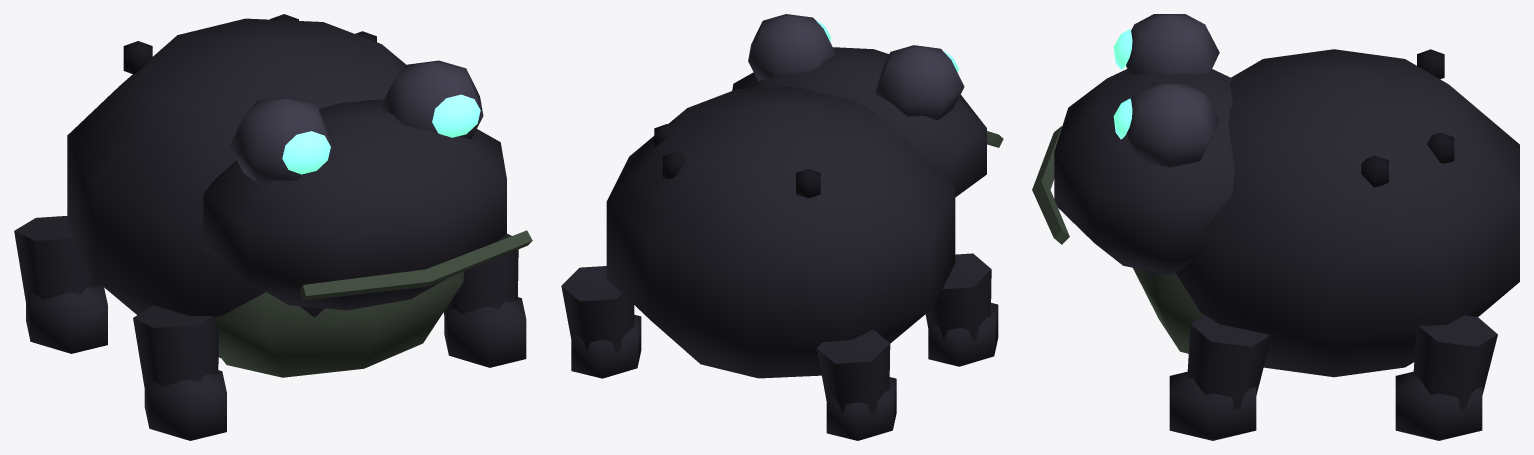
File: beast-toad.glb
3 views of the same model, side by side, from view 1: azimuth 30°, elevation 25°; view 2: azimuth 150°, elevation 25°; view 3: azimuth 270°, elevation 25° (orthographic). The views are drawn at different scales.
Parts seen in each view (by area): view 1: body, head, leg_fr, leg_br, leg_fl, glow_eyes; view 2: body, head, leg_br, leg_bl, leg_fr; view 3: body, head, leg_bl, leg_fl, glow_eyes.
Part boxes in pixels (bbox=[...]): body: bbox=[67, 14, 464, 377]; head: bbox=[203, 60, 532, 310]; leg_fr: bbox=[133, 305, 226, 440]; leg_br: bbox=[14, 216, 107, 353]; leg_fl: bbox=[443, 233, 526, 367]; glow_eyes: bbox=[282, 94, 480, 174]; body: bbox=[606, 86, 955, 378]; head: bbox=[732, 14, 1003, 197]; leg_br: bbox=[816, 329, 896, 440]; leg_bl: bbox=[561, 266, 641, 378]; leg_fr: bbox=[925, 253, 998, 366]; body: bbox=[1133, 49, 1519, 377]; head: bbox=[1032, 14, 1234, 275]; leg_bl: bbox=[1395, 315, 1497, 440]; leg_fl: bbox=[1169, 315, 1271, 440]; glow_eyes: bbox=[1113, 29, 1132, 139].
Size of the model in its own units: 0.3979 by 0.345 by 0.4749.
